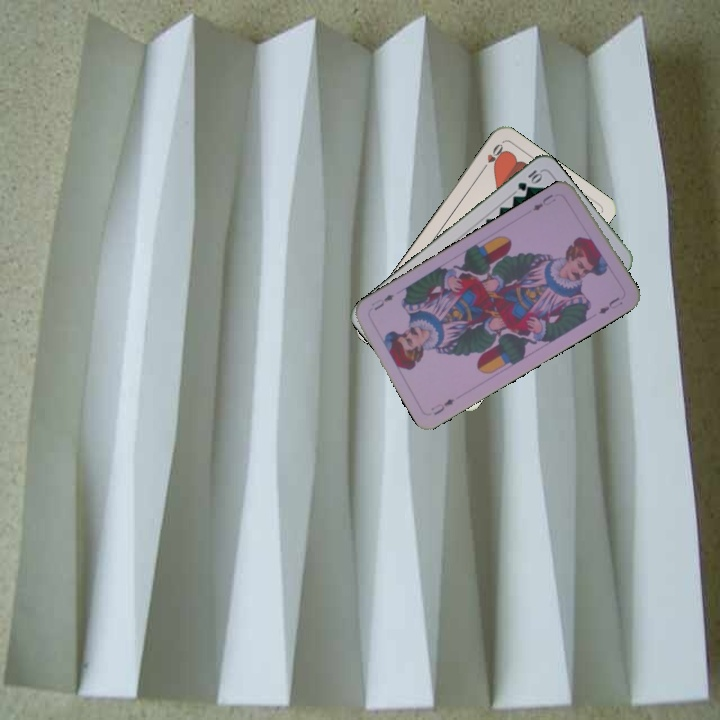EU: (427, 394, 457, 418), (528, 190, 556, 213)
G10: (513, 166, 545, 194)
HO: (477, 139, 506, 175)
